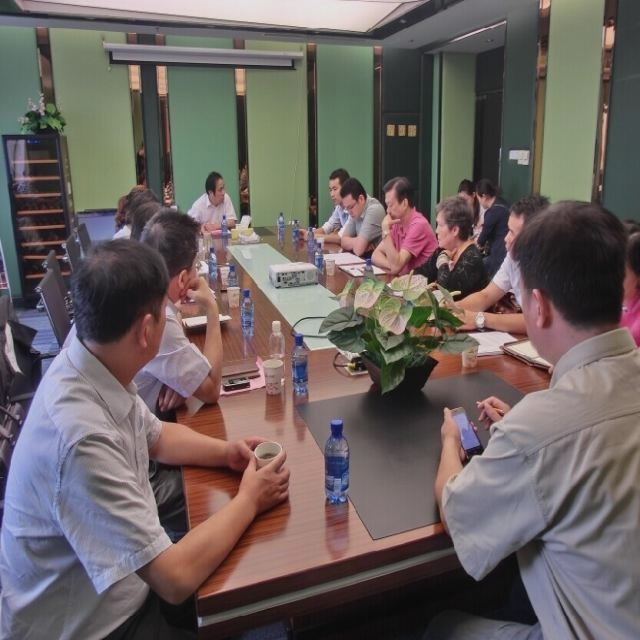Sin_Casco_Mascarrilla: (75, 238, 168, 366), (205, 171, 226, 206)
